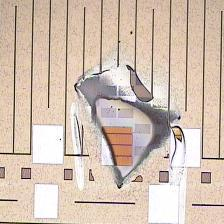PARTICLE: (66, 28, 196, 199)
